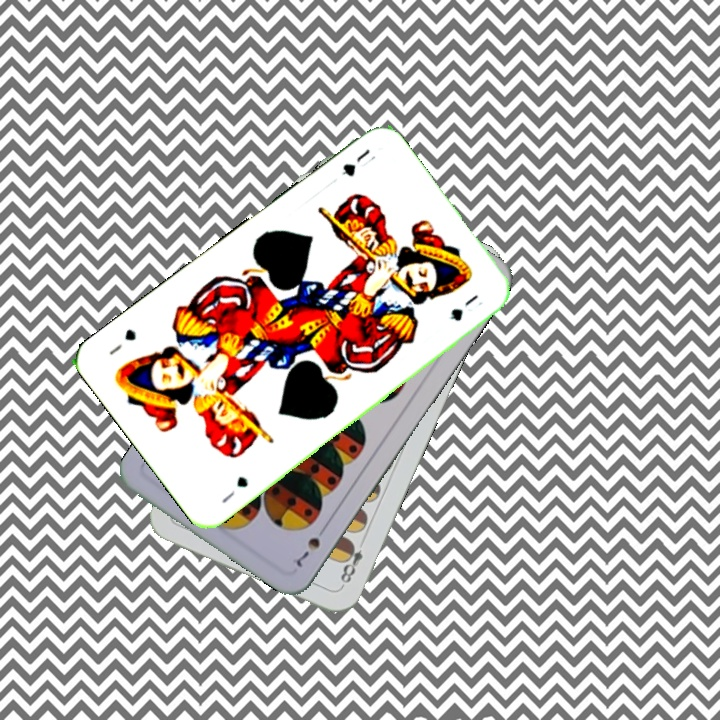E8: (336, 537, 366, 590)
GU: (338, 144, 379, 179), (218, 472, 251, 506)
S7: (291, 520, 330, 570)
